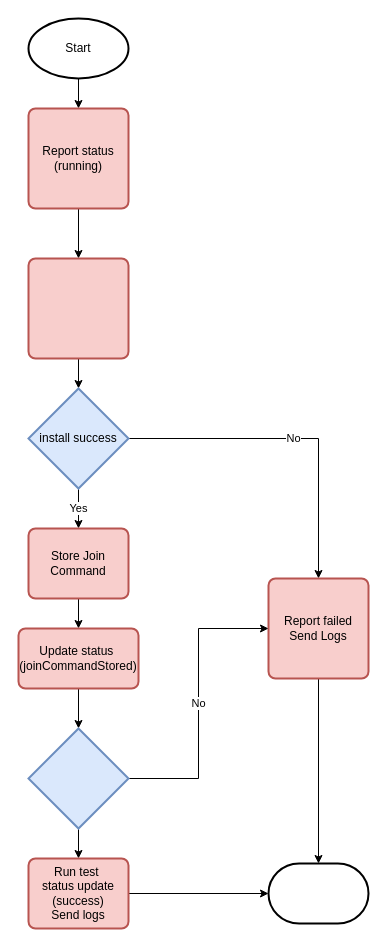
Some shapes in this 386 by 946 pixel diagram are drawn without their labels. Here are the shapes that lost their labels. From the top down, the centre of each, then its label:
At [78,308]: "Install Kurl".
At [78,778]: "Cluster Ready?".
At [318,893]: "stop".
